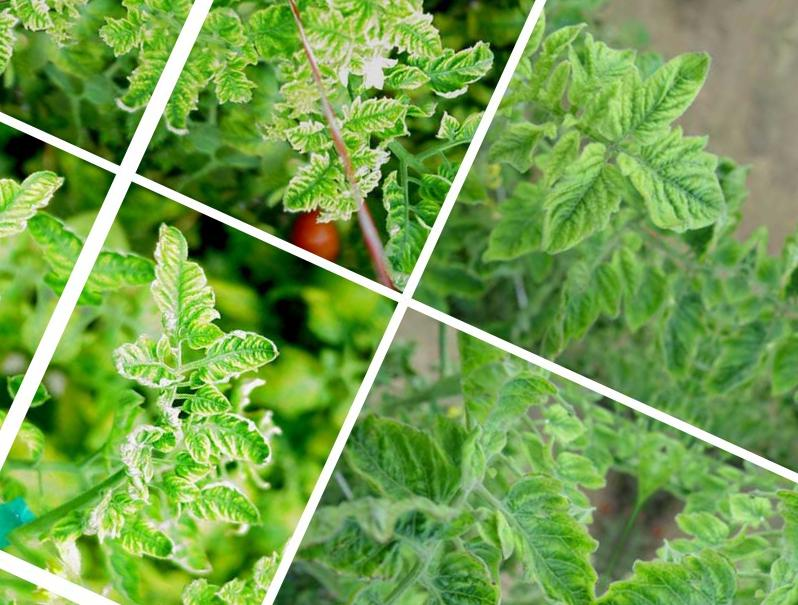Tomato leaf yellow virus: (592, 113, 751, 256), (110, 215, 250, 373), (337, 385, 490, 528), (475, 473, 626, 605), (610, 23, 725, 162), (531, 148, 636, 291), (81, 298, 202, 406), (268, 537, 440, 605), (387, 532, 546, 605), (180, 304, 289, 409), (171, 395, 287, 493), (183, 471, 282, 547), (270, 143, 347, 227), (236, 0, 314, 75), (106, 507, 189, 569), (339, 79, 411, 149), (382, 0, 454, 64), (200, 53, 270, 118), (177, 373, 237, 435), (376, 54, 437, 104), (307, 0, 396, 34), (154, 466, 210, 515)
